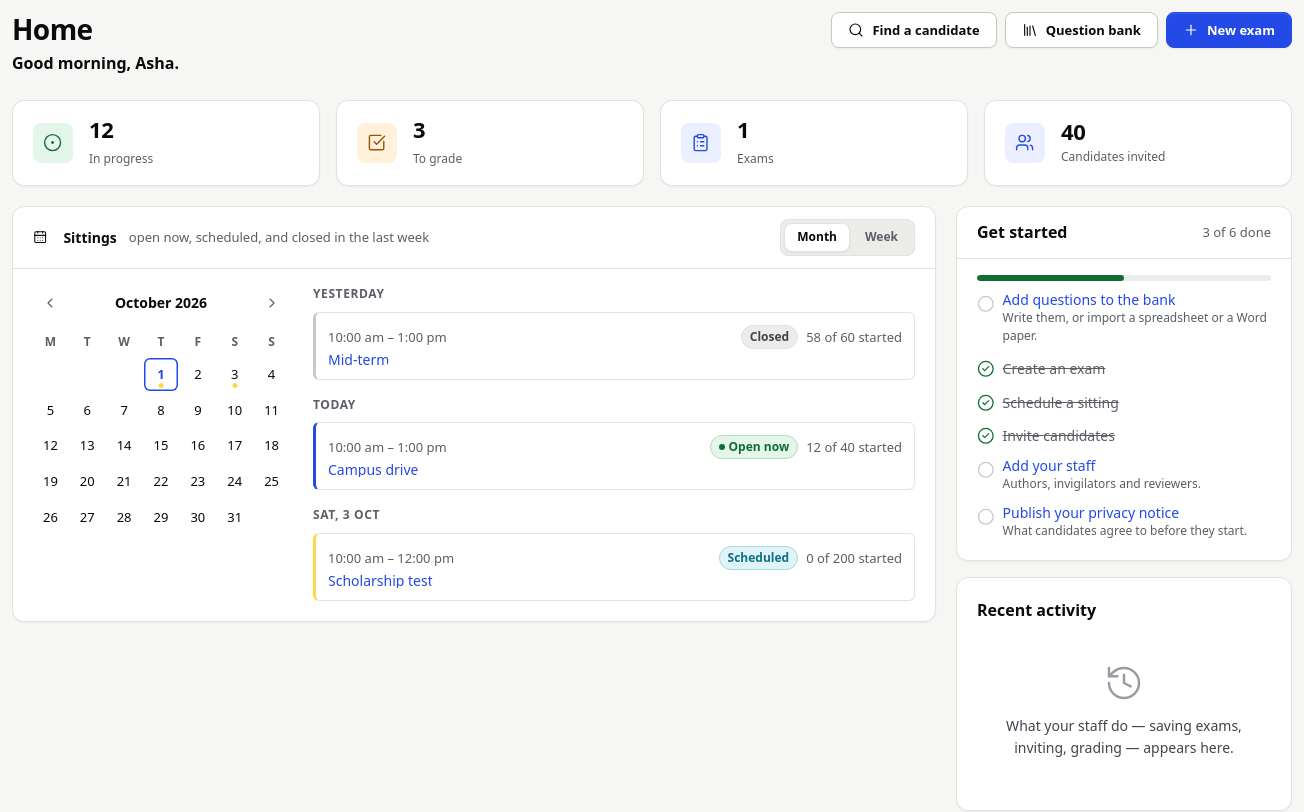
the week › draws each sitting as a block across its hours
This screenshot has width=1304, height=812.
Click the button "Week" at (882, 238), box [852,223,911,252]
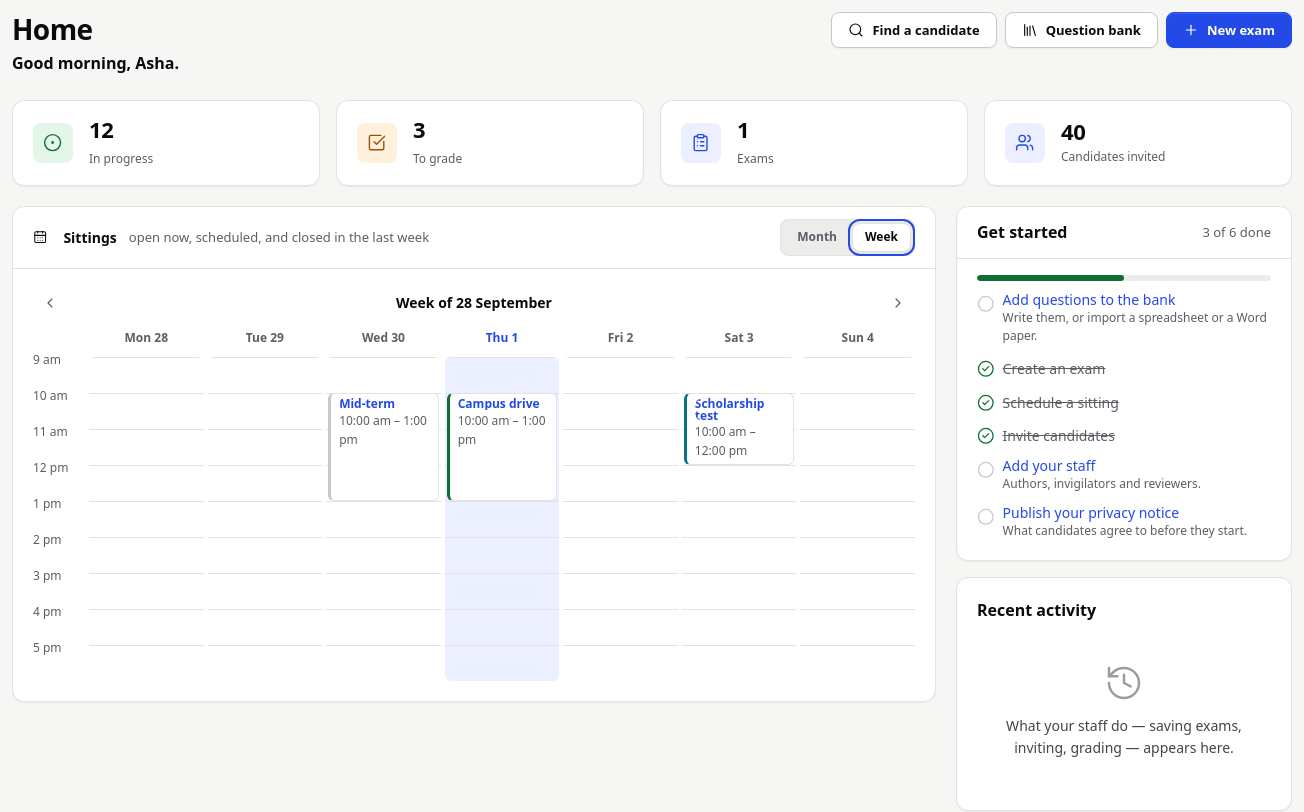
Check: the list item "Campus drive" shows "10:00 am – 1:00 pm", box [447,393,557,501]
Click the button "Scholarship test" at (740, 410), box [695,398,785,421]
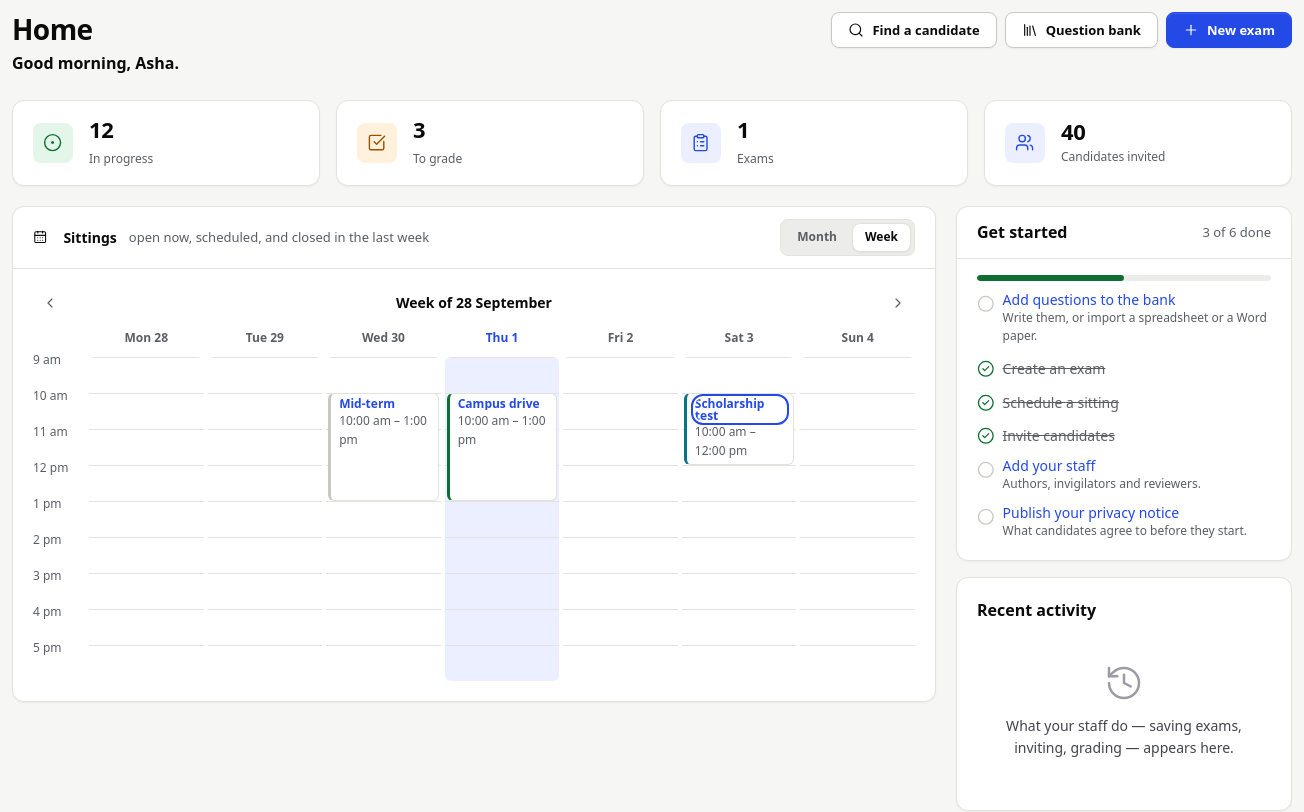
Click the button named "Next week" at (898, 303), box [881,285,915,321]
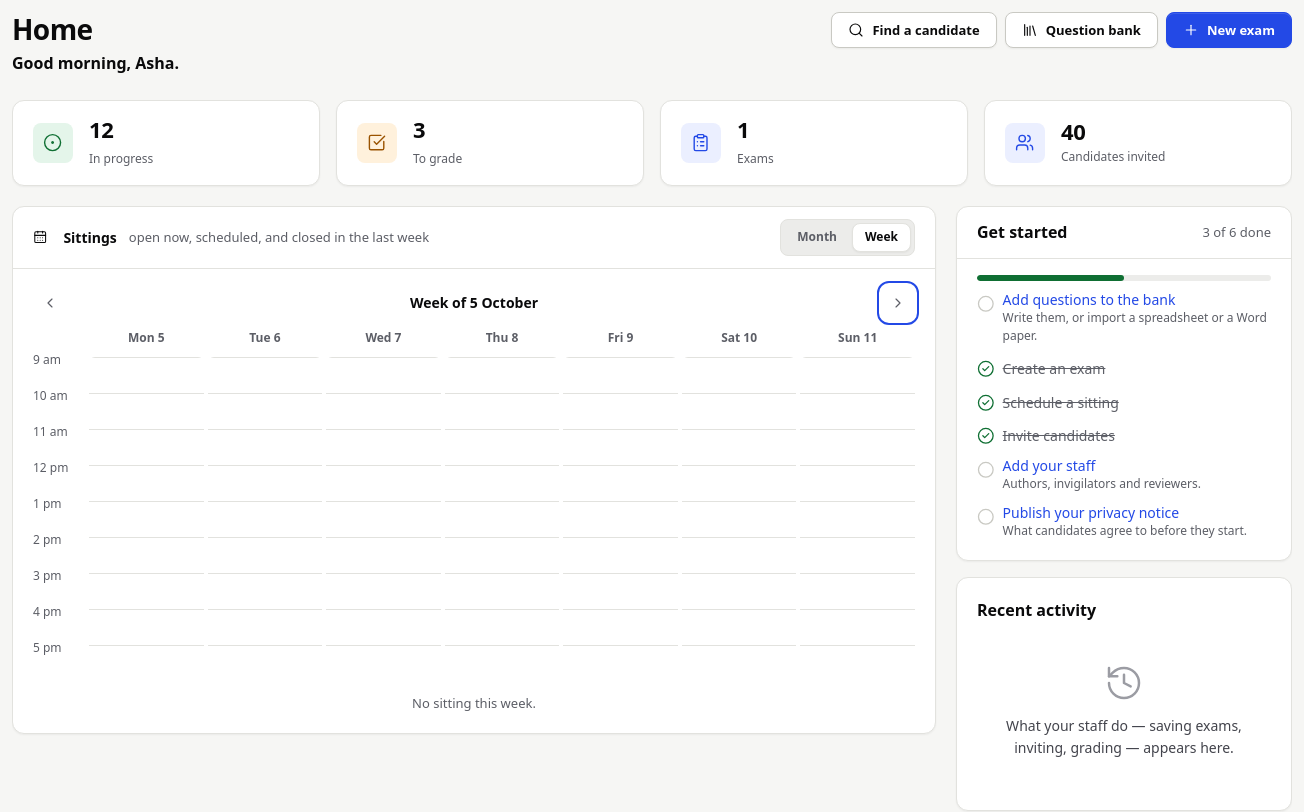
Check: the element "Week of 5 October" shows "No sitting this week.", box [412,694,536,712]
